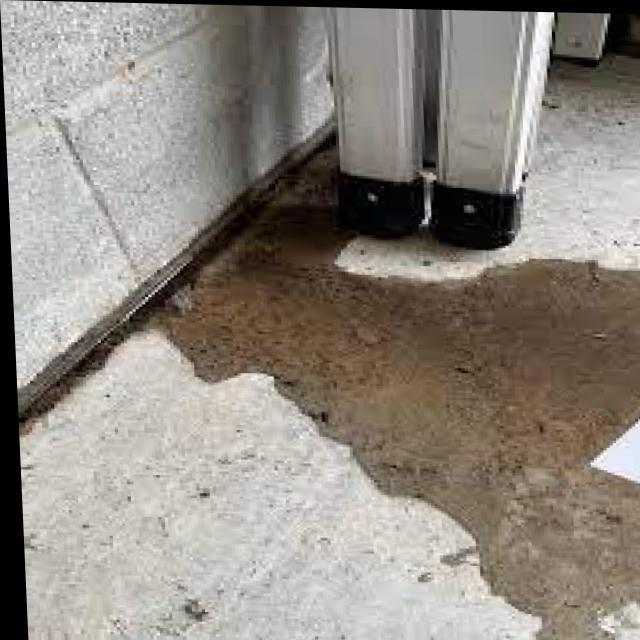water accumulation: (150, 131, 640, 640)
